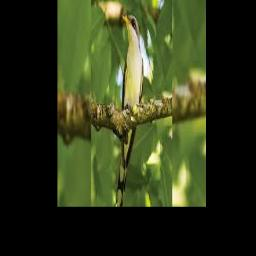Cuckoo: (116, 14, 143, 207)
